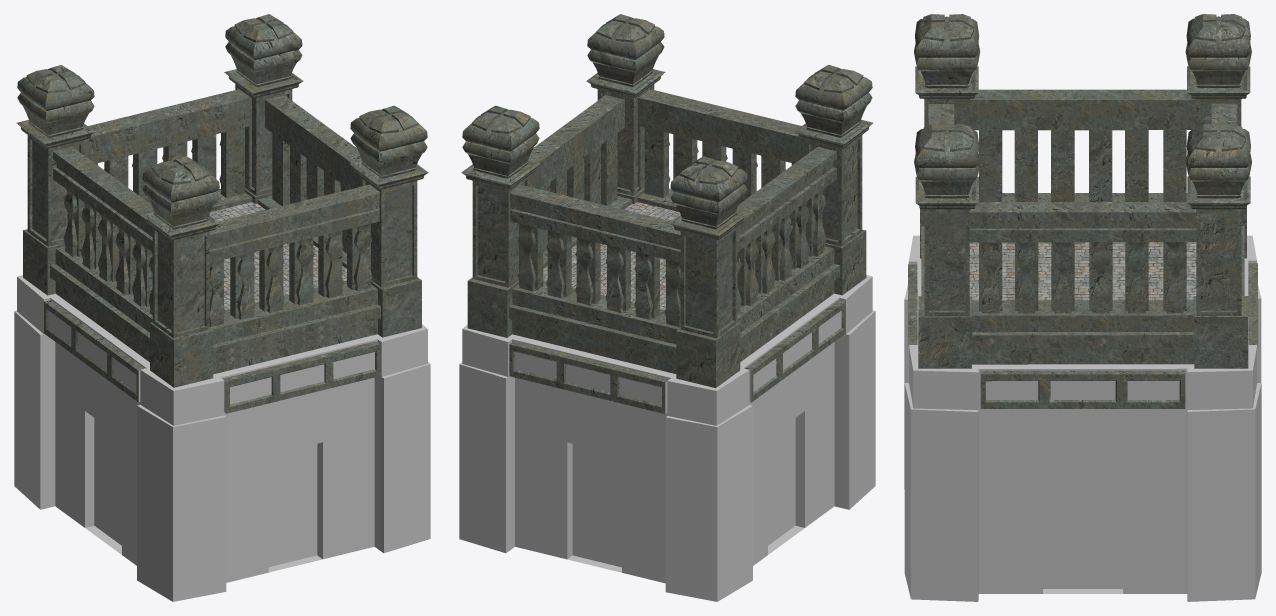
The model's file is tower_LODGroup.fbx.
3 renders of one model, left to right at view 1: azimuth 30°, elevation 25°; view 2: azimuth 150°, elevation 25°; view 3: azimuth 270°, elevation 25°, orthographic. The views are drawn at different scales.
Visible parts, largest first — view 1: tower_LOD0; view 2: tower_LOD0; view 3: tower_LOD0.
Boxes of the visible parts, x1,y1,x2,y2 form: tower_LOD0: (14,14,430,601); tower_LOD0: (459,14,875,601); tower_LOD0: (904,14,1261,601).
Size of what is drawn, in the model's own units: 1013 by 1515 by 1077.
